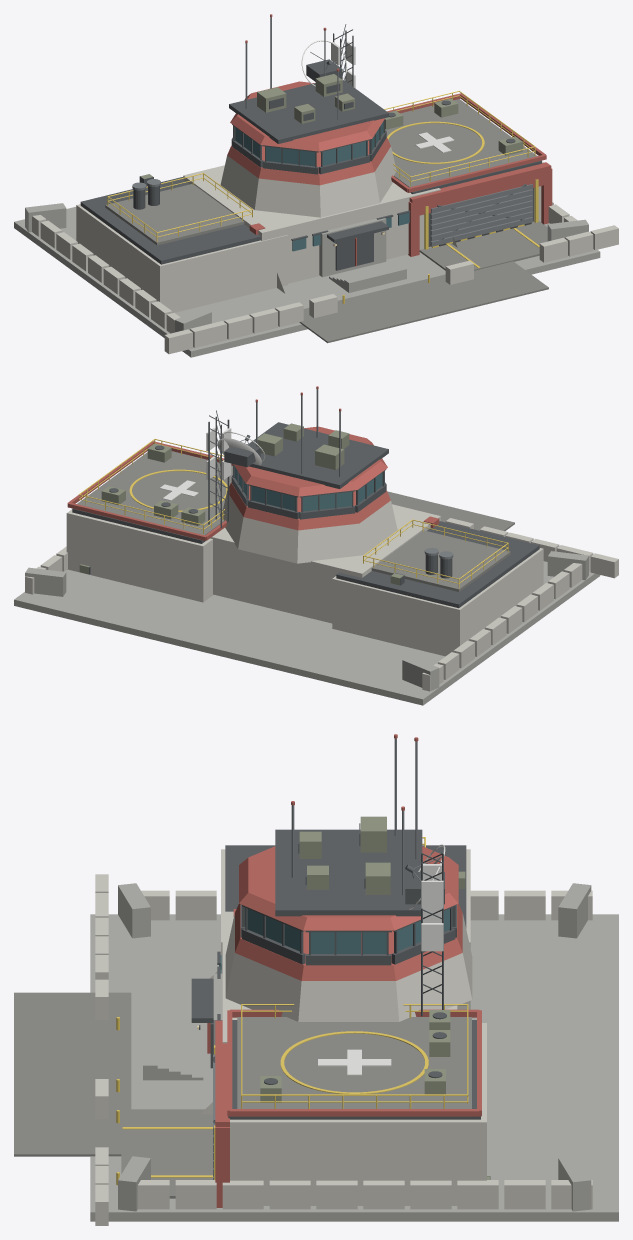
Rendered from aegis_command_nexus_hq_v13.glb.
3 renders of one model, top to bottom at view 1: azimuth 30°, elevation 25°; view 2: azimuth 150°, elevation 25°; view 3: azimuth 270°, elevation 25°, orthographic. The views are drawn at different scales.
Visible parts, largest first — view 1: Static_concrete, Static_asphalt, Static_steel_dark, Static_concrete_dark, Static_red, BayDoor_steel, Static_yellow, Static_olive, Static_glass, Static_white, Static_steel; view 2: Static_concrete, Static_concrete_dark, Static_steel_dark, Static_asphalt, Static_red, Static_olive, Static_yellow, Static_glass, Static_white, Static_steel; view 3: Static_concrete_dark, Static_concrete, Static_asphalt, Static_steel_dark, Static_red, Static_olive, Static_yellow, Static_glass, Static_white, Static_steel.
Part boxes in pixels (box(x1,y1,x2,y2)): Static_concrete: box(32, 147, 618, 354); Static_asphalt: box(105, 99, 548, 343); Static_steel_dark: box(80, 24, 541, 270); Static_concrete_dark: box(14, 203, 600, 357); Static_red: box(227, 14, 552, 266); BayDoor_steel: box(430, 184, 532, 246); Static_yellow: box(107, 90, 539, 303); Static_olive: box(140, 74, 522, 178); Static_glass: box(235, 121, 409, 251); Static_white: box(331, 41, 454, 152); Static_steel: box(132, 17, 338, 190); Static_concrete: box(25, 491, 618, 691); Static_concrete_dark: box(14, 551, 600, 705); Static_steel_dark: box(72, 410, 539, 608); Static_asphalt: box(77, 451, 514, 591); Static_red: box(67, 386, 439, 540); Static_olive: box(79, 423, 403, 585); Static_yellow: box(78, 439, 508, 588); Static_glass: box(234, 466, 382, 511); Static_white: box(159, 428, 231, 500); Static_steel: box(256, 389, 453, 559); Static_concrete_dark: box(90, 883, 618, 1221); Static_concrete: box(95, 849, 592, 1225); Static_asphalt: box(14, 992, 471, 1198); Static_steel_dark: box(191, 823, 490, 1179); Static_red: box(207, 734, 481, 1207); Static_olive: box(260, 816, 489, 1179); Static_yellow: box(116, 837, 468, 1185); Static_glass: box(219, 908, 452, 973); Static_white: box(318, 864, 443, 1075); Static_steel: box(291, 738, 417, 895).
Bounding box in the file's own units: 52.8 × 24.31 × 41.2.
